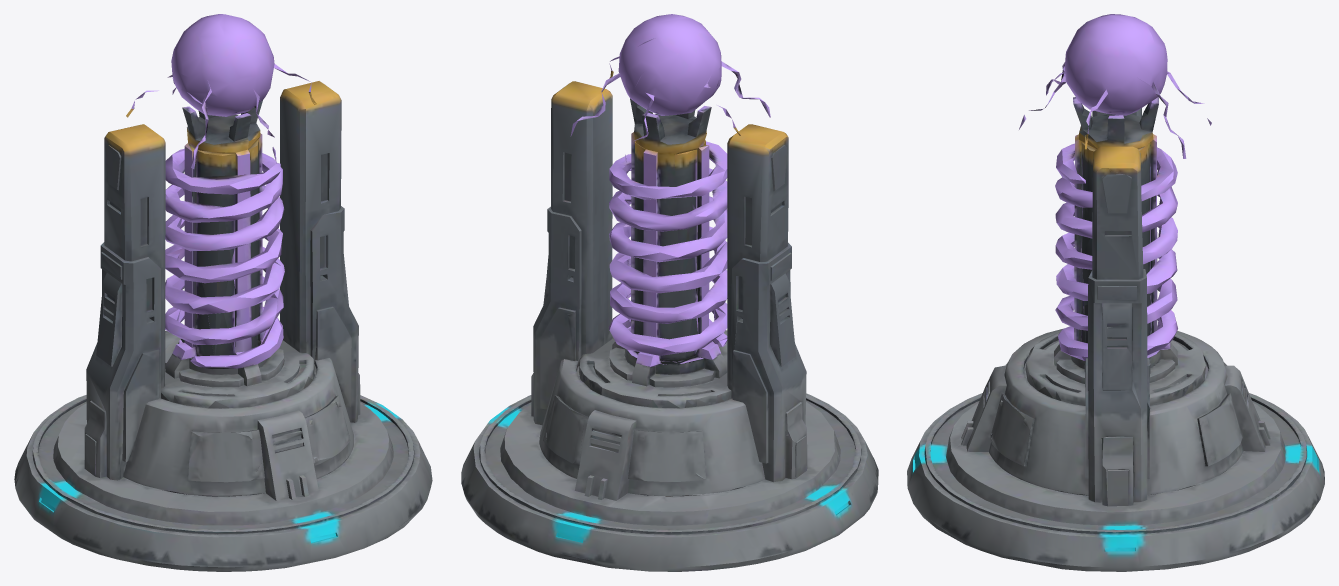
The model's file is town-tesla-light.glb.
3 renders of one model, left to right at view 1: azimuth 30°, elevation 25°; view 2: azimuth 150°, elevation 25°; view 3: azimuth 270°, elevation 25°, orthographic.
Visible parts, largest first — view 1: town-tesla-light; view 2: town-tesla-light; view 3: town-tesla-light.
Boxes of the visible parts, x1,y1,x2,y2 form: town-tesla-light: (14, 14, 432, 571); town-tesla-light: (461, 14, 878, 571); town-tesla-light: (907, 14, 1324, 571).
Size of the model in its own units: 3.59 by 4.41 by 3.59.
1 material, 1 textured.
